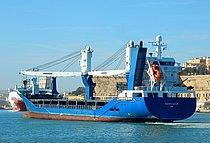Ship: (13, 34, 199, 125)
